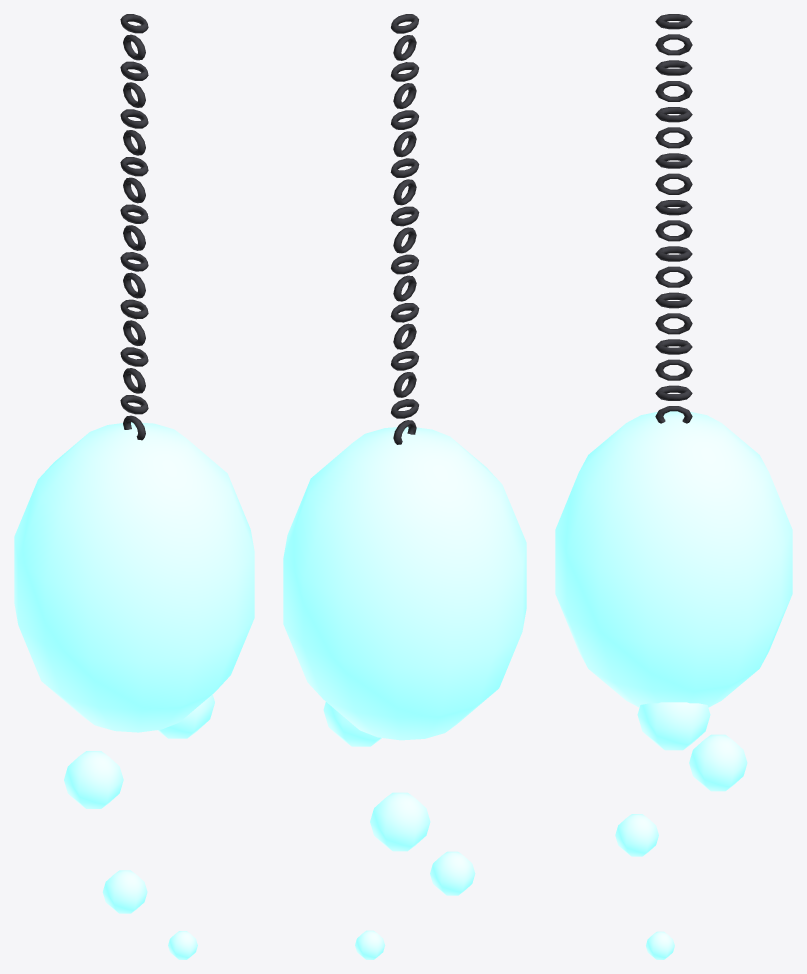
Rendered from floating_light_wisp.glb.
3 renders of one model, left to right at view 1: azimuth 30°, elevation 25°; view 2: azimuth 150°, elevation 25°; view 3: azimuth 270°, elevation 25°, orthographic. The views are drawn at different scales.
Visible parts, largest first — view 1: GD_floating_light_wisp__m1, GD_floating_light_wisp__m0; view 2: GD_floating_light_wisp__m1, GD_floating_light_wisp__m0; view 3: GD_floating_light_wisp__m1, GD_floating_light_wisp__m0.
Boxes of the visible parts, x1,y1,x2,y2 form: GD_floating_light_wisp__m1: (14, 422, 254, 959); GD_floating_light_wisp__m0: (120, 14, 148, 440); GD_floating_light_wisp__m1: (283, 426, 526, 959); GD_floating_light_wisp__m0: (390, 14, 419, 444); GD_floating_light_wisp__m1: (555, 411, 792, 959); GD_floating_light_wisp__m0: (655, 14, 692, 423).
Bounding box in the file's own units: 0.1901 × 0.8347 × 0.195.
